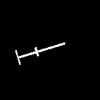double_crochet: (16, 43, 64, 64)
